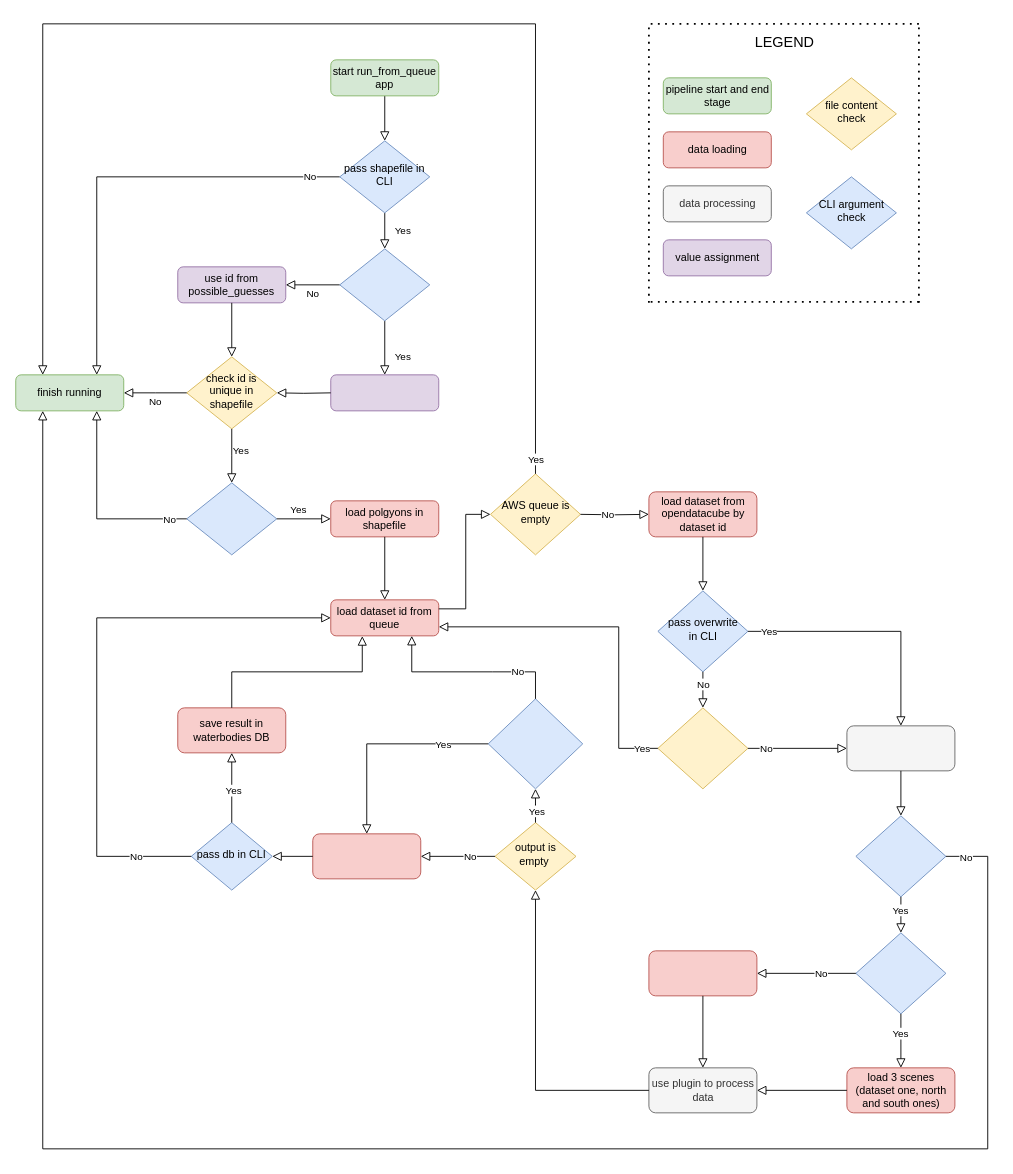
Image size: 1013x1174. Some labels were removed from this diagram. Each missing label, with the centre of its shape:
"dataset result in output folder" goes at (x=702, y=748).
"filter polgyons by dataset" goes at (x=900, y=748).
"only load secen belongs to dataset" goes at (x=702, y=973).
"pass dump-empty-dataframe in CLI" goes at (x=535, y=743).
"pass overedge in CLI" goes at (x=900, y=973).
"pass partial in CLI" goes at (x=900, y=856).
"pass queue and plugin in CLI" goes at (x=231, y=518).
"pass use_id in CLI" goes at (x=384, y=284).
"save result as parquet file in output folder" goes at (x=366, y=856).
"use use_id as id" goes at (x=384, y=392).
